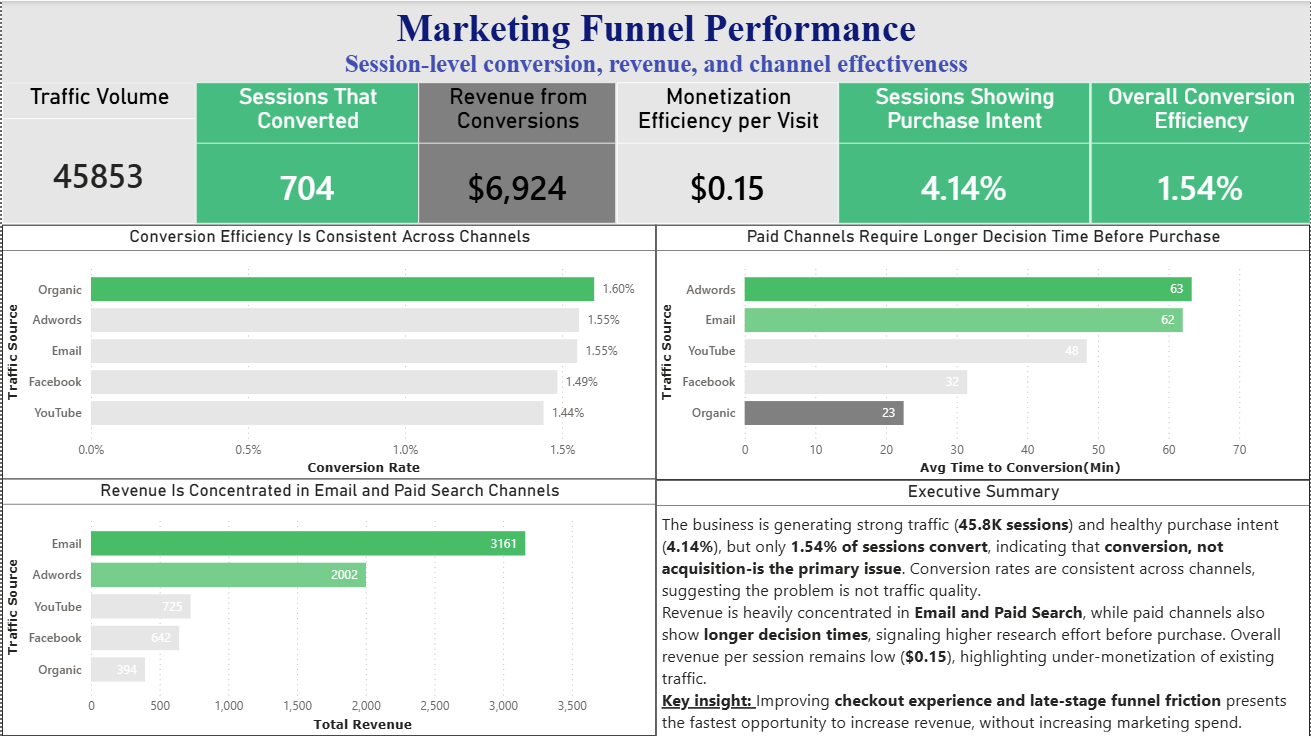

The dashboard page shown, as its layout file describes it:
{"tool":"powerbi","page":{"name":"Executive Overview","canvas":[1280,720],"ordinal":0},"visuals":[{"type":"cardVisual","title":"Traffic Volume","fields":{"Data":["Marketing_Session_Analysis.Total Sessions"]},"box":[0,80,189.2,138.5],"z":0},{"type":"clusteredBarChart","title":"Conversion Efficiency Is Consistent Across Channels","fields":{"Category":["Marketing_Session_Analysis.TRAFFIC_SOURCE"],"Y":["Marketing_Session_Analysis.Conversion Rate (%)"]},"box":[0,218.5,640,249.2],"z":1000},{"type":"textbox","box":[0,0,1280,80],"z":2000},{"type":"cardVisual","title":"Sessions That Converted","fields":{"Data":["Marketing_Session_Analysis.Converted Sessions"]},"box":[189.2,80,218.5,138.5],"z":3000},{"type":"cardVisual","title":"Revenue from Conversions","fields":{"Data":["Marketing_Session_Analysis.Total Revenue"]},"box":[407.7,80,193.8,138.5],"z":4000},{"type":"cardVisual","title":"Monetization Efficiency per Visit","fields":{"Data":["Marketing_Session_Analysis.Revenue per Session"]},"box":[601.5,80,216.9,138.5],"z":5000},{"type":"cardVisual","title":"Sessions Showing Purchase Intent","fields":{"Data":["Marketing_Session_Analysis.Purchase Intent Rate (%)"]},"box":[818.5,80,246.2,138.5],"z":6000},{"type":"cardVisual","title":"Overall Conversion Efficiency","fields":{"Data":["Marketing_Session_Analysis.Conversion Rate (%)"]},"box":[1064.6,80,215.4,138.5],"z":7000},{"type":"clusteredBarChart","title":"Paid Channels Require Longer Decision Time Before Purchase","fields":{"Category":["Marketing_Session_Analysis.TRAFFIC_SOURCE"],"Y":["Marketing_Session_Analysis.Avg Time to Conversion (Min)"]},"box":[640,218.5,640,249.2],"z":8000},{"type":"clusteredBarChart","title":"Revenue Is Concentrated in Email and Paid Search Channels","fields":{"Category":["Marketing_Session_Analysis.TRAFFIC_SOURCE"],"Y":["Marketing_Session_Analysis.Total Revenue"]},"box":[0,467.7,640,252.3],"z":9000},{"type":"textbox","title":"Executive Summary","box":[640,468,640,252],"z":10000}]}

Visuals, with their boxes in screenshot pixels (x1, y1, x2, y2), scaled from the page's 1280x720 canvas onto the 1311x736 screenshot:
"Traffic Volume" cardVisual: [0, 82, 194, 223]
"Conversion Efficiency Is Consistent Across Channels" clusteredBarChart: [0, 223, 656, 478]
textbox: [0, 0, 1310, 82]
"Sessions That Converted" cardVisual: [194, 82, 418, 223]
"Revenue from Conversions" cardVisual: [418, 82, 616, 223]
"Monetization Efficiency per Visit" cardVisual: [616, 82, 838, 223]
"Sessions Showing Purchase Intent" cardVisual: [838, 82, 1090, 223]
"Overall Conversion Efficiency" cardVisual: [1090, 82, 1310, 223]
"Paid Channels Require Longer Decision Time Before Purchase" clusteredBarChart: [656, 223, 1310, 478]
"Revenue Is Concentrated in Email and Paid Search Channels" clusteredBarChart: [0, 478, 656, 735]
"Executive Summary" textbox: [656, 478, 1310, 735]
